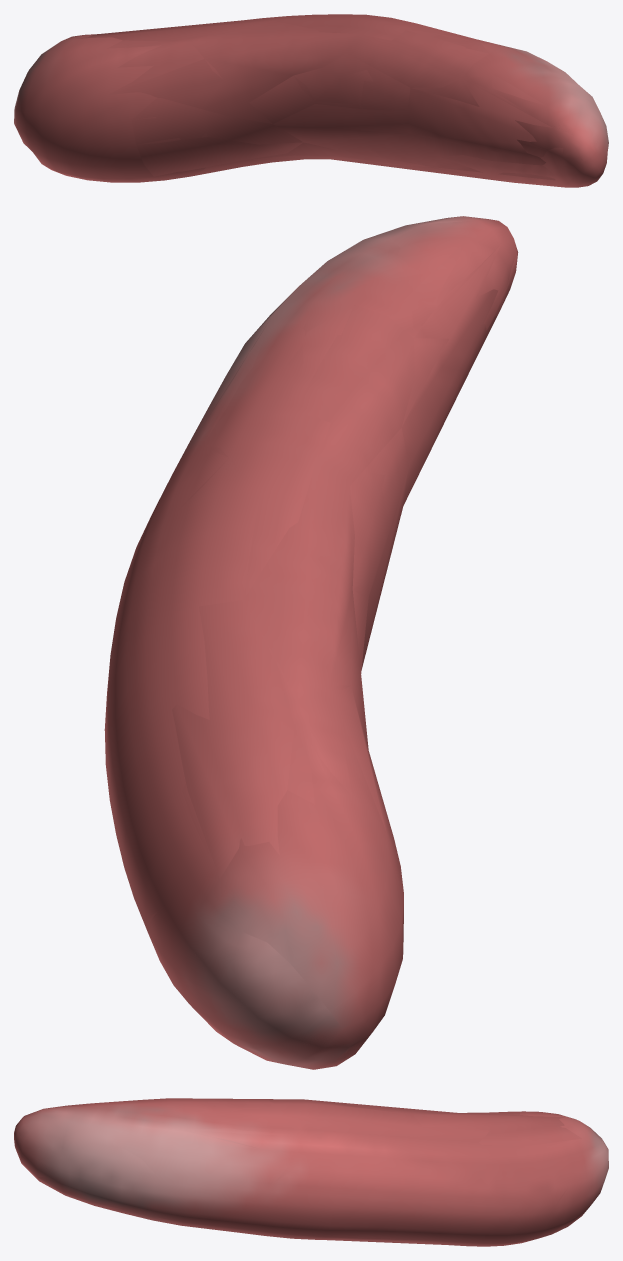
Rendered from Латеральная копчиковая мышца L.fbx.
The picture shows the model from 3 angles, top to bottom: view 1: azimuth 30°, elevation 25°; view 2: azimuth 150°, elevation 25°; view 3: azimuth 270°, elevation 25°; orthographic projection. The views are drawn at different scales.
Visible parts, largest first — view 1: Латеральная копчиковая мышца L low, Латеральная копчиковая мышца L high, Латеральная копчиковая мышца L; view 2: Латеральная копчиковая мышца L high, Латеральная копчиковая мышца L low, Латеральная копчиковая мышца L; view 3: Латеральная копчиковая мышца L high, Латеральная копчиковая мышца L, Латеральная копчиковая мышца L low.
Part boxes in pixels (x1,y1,x2,y2): Латеральная копчиковая мышца L low: [76, 16, 555, 182]; Латеральная копчиковая мышца L high: [14, 14, 608, 187]; Латеральная копчиковая мышца L: [14, 15, 607, 187]; Латеральная копчиковая мышца L high: [104, 216, 518, 1069]; Латеральная копчиковая мышца L low: [146, 245, 500, 1052]; Латеральная копчиковая мышца L: [119, 216, 516, 1069]; Латеральная копчиковая мышца L high: [14, 1098, 608, 1246]; Латеральная копчиковая мышца L: [19, 1100, 607, 1246]; Латеральная копчиковая мышца L low: [169, 1098, 581, 1244].
Bounding box in the file's own units: 0.097 × 0.07 × 0.1871.
1 material, 1 textured.
